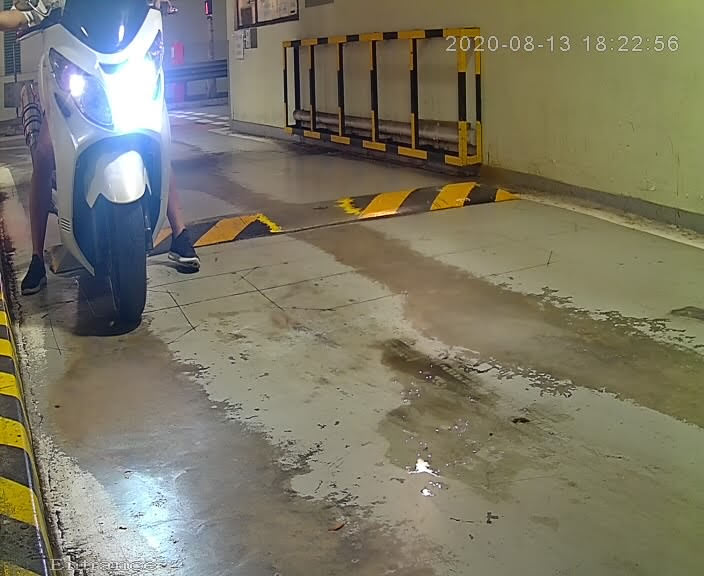motorcycle: (1, 1, 216, 345)
